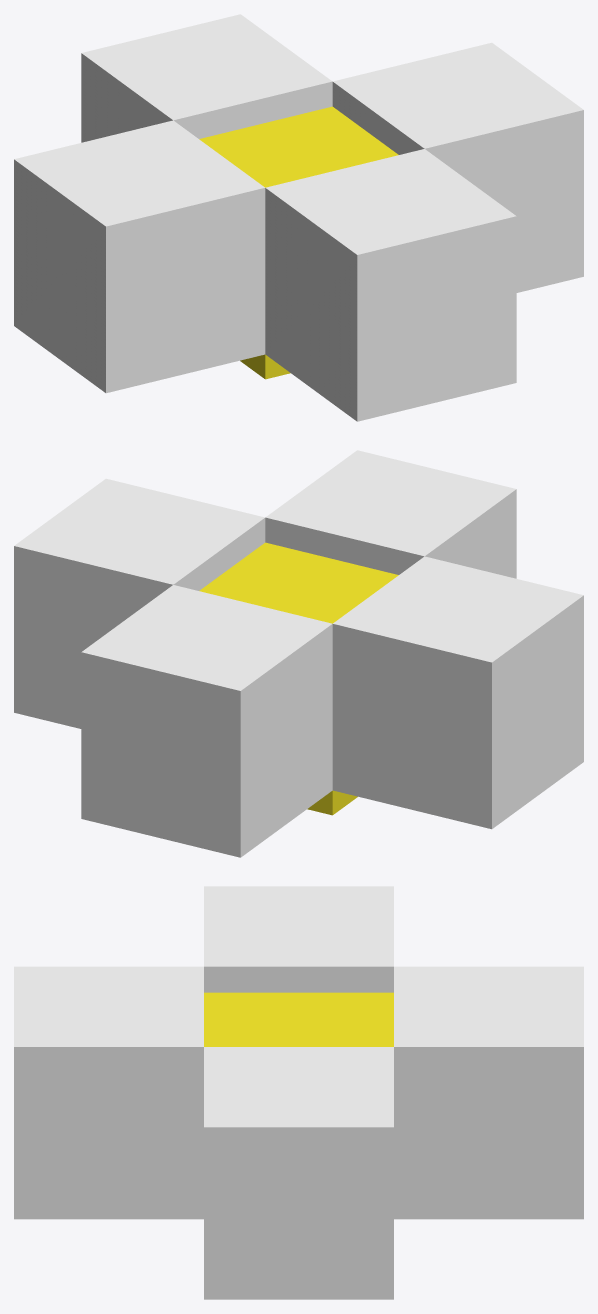
Rendered from flower-1.gltf.
3 renders of one model, top to bottom at view 1: azimuth 30°, elevation 25°; view 2: azimuth 150°, elevation 25°; view 3: azimuth 270°, elevation 25°, orthographic. The views are drawn at different scales.
Visible parts, largest first — view 1: flower-Local, in-Local; view 2: flower-Local, in-Local; view 3: flower-Local, in-Local.
Part boxes in pixels (x1=…): flower-Local: x1=14, y1=14, x2=583, y2=421; in-Local: x1=199, y1=106, x2=398, y2=379; flower-Local: x1=14, y1=450, x2=583, y2=857; in-Local: x1=199, y1=542, x2=398, y2=815; flower-Local: x1=14, y1=886, x2=583, y2=1299; in-Local: x1=204, y1=992, x2=393, y2=1046.
Size of the model in its own units: 3 by 1.15 by 3.
Materials: 2 (2 with a texture image).
